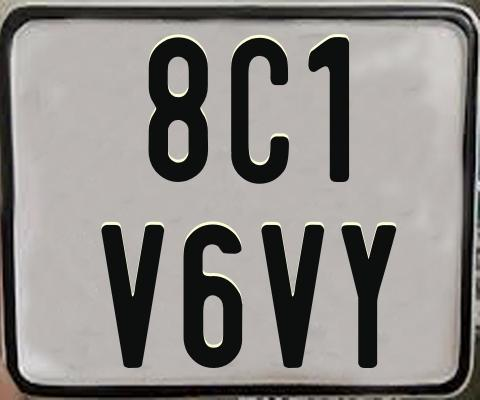1: (306, 37, 353, 185)
6: (182, 223, 243, 367)
8: (147, 34, 210, 184)
C: (228, 37, 286, 189)
V: (261, 225, 329, 368), (101, 222, 164, 370)
Y: (338, 222, 394, 371)
